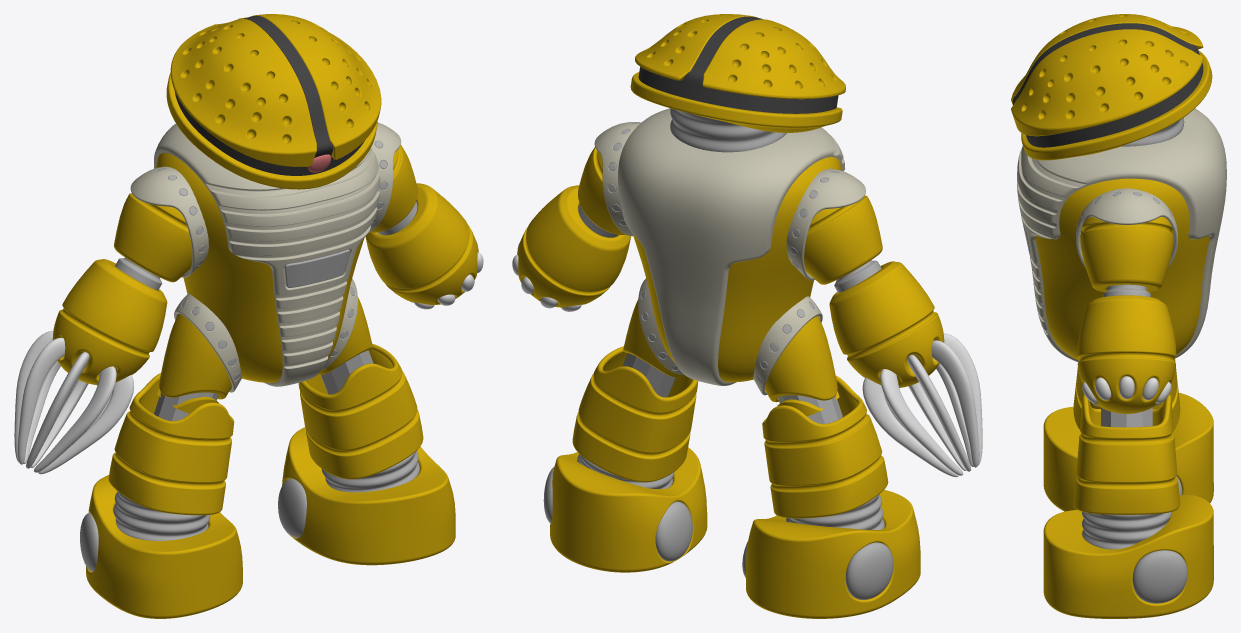
3 views of the same model, side by side, from view 1: azimuth 30°, elevation 25°; view 2: azimuth 150°, elevation 25°; view 3: azimuth 270°, elevation 25° (orthographic). The views are drawn at different scales.
Parts seen in each view (by area): view 1: 012_aggai_202; view 2: 012_aggai_202; view 3: 012_aggai_202.
Boxes of the visible parts, left/top/right/bottom form: 012_aggai_202: left=14, top=14, right=483, bottom=618; 012_aggai_202: left=512, top=14, right=982, bottom=618; 012_aggai_202: left=1011, top=14, right=1226, bottom=618.
Bounding box in the file's own units: 0.1801 × 0.2 × 0.0758.
